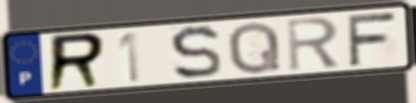1: (117, 31, 141, 82)
F: (344, 10, 398, 68)
Q: (226, 20, 283, 77)
R: (45, 31, 108, 94), (284, 15, 343, 74)
S: (167, 24, 224, 82)
